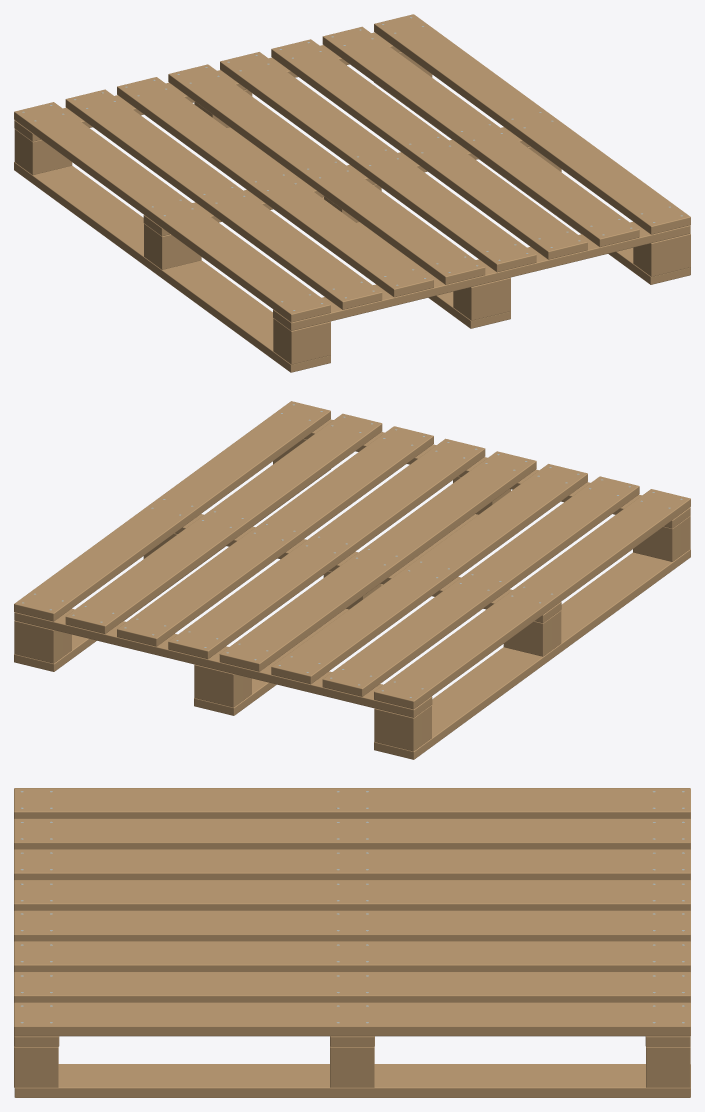
The model's file is pallet_block_a02.glb.
3 views of the same model, one above another, from view 1: azimuth 30°, elevation 25°; view 2: azimuth 150°, elevation 25°; view 3: azimuth 270°, elevation 25° (orthographic). The views are drawn at different scales.
Bounding box in the file's own units: 1 × 0.1405 × 1.2.
